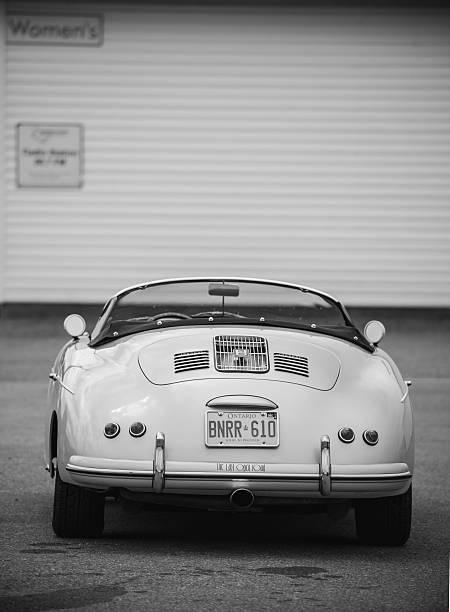licence: (199, 405, 282, 450)
